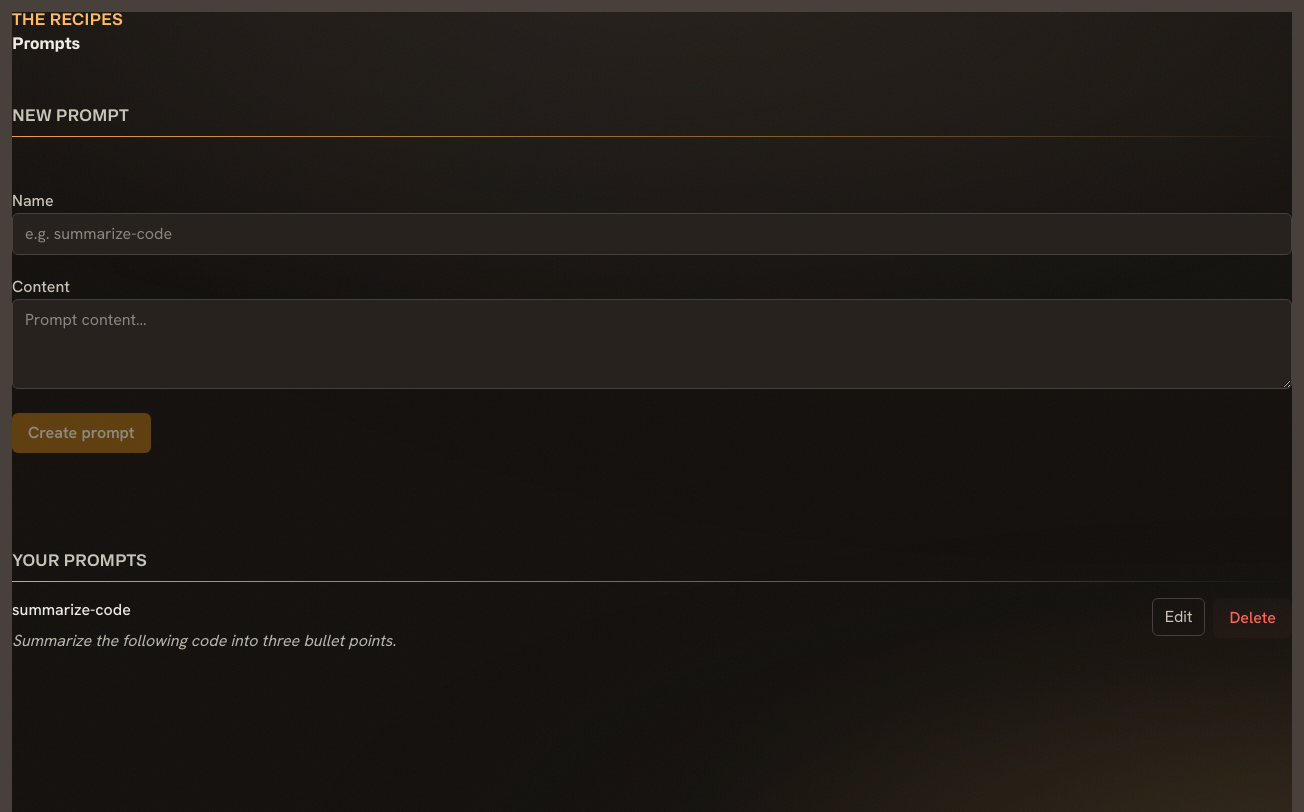
Scenario: PromptLibrary › clicking Edit on a row swaps it for the inline edit form
Click the button "Edit": coordinates (1179, 617) [1152,598,1206,636]
(page scrolled)
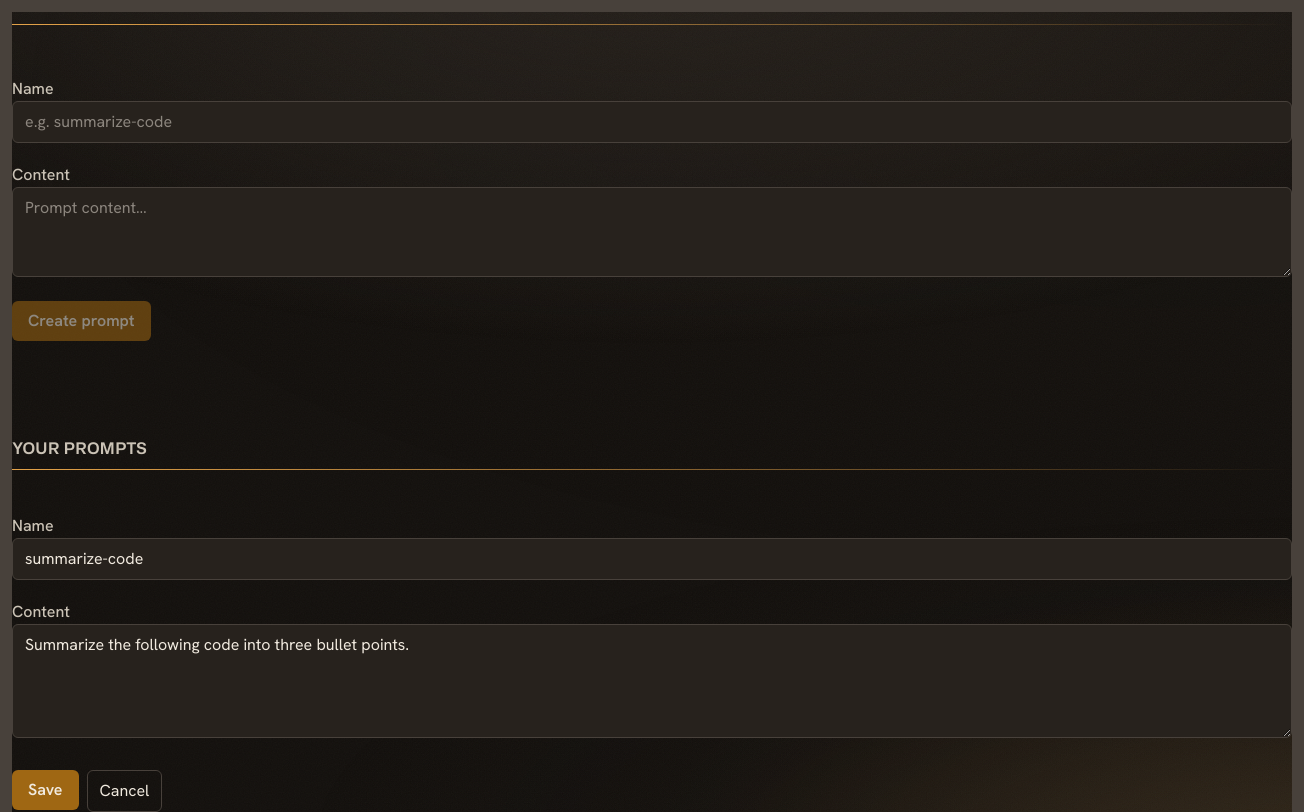
Now the field named "Edit prompt name" is shown, box [12,538,1292,580]
Now the text box named "Edit prompt content" is shown, box [12,624,1292,738]
Now the button "Save" is shown, box [12,770,78,810]
